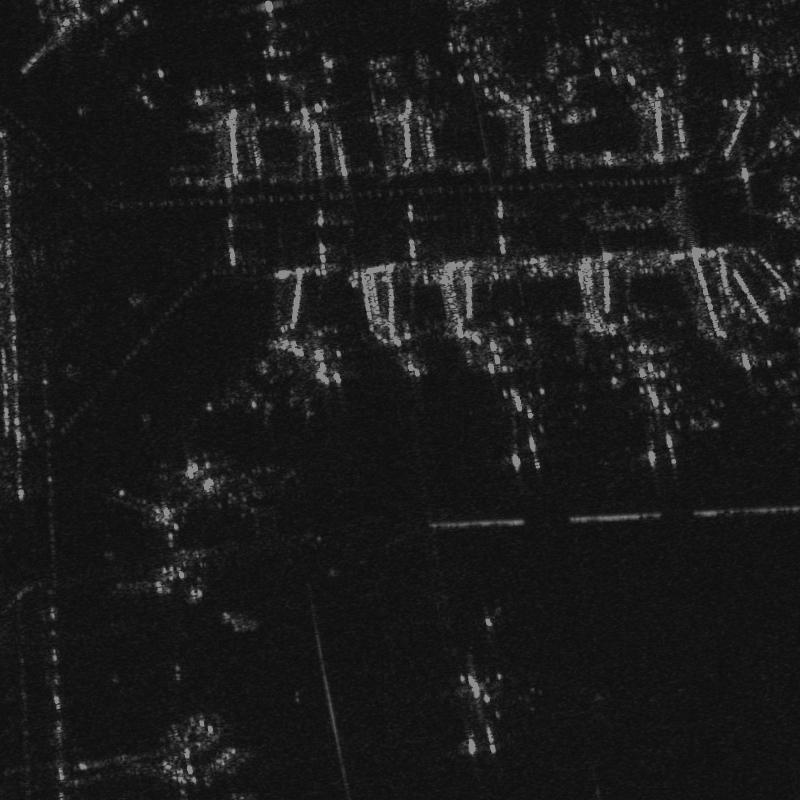A320/321: (614, 355, 711, 466)
Boeing737: (751, 348, 799, 434)
Boeing787: (478, 375, 559, 473)
other: (441, 671, 514, 758)
